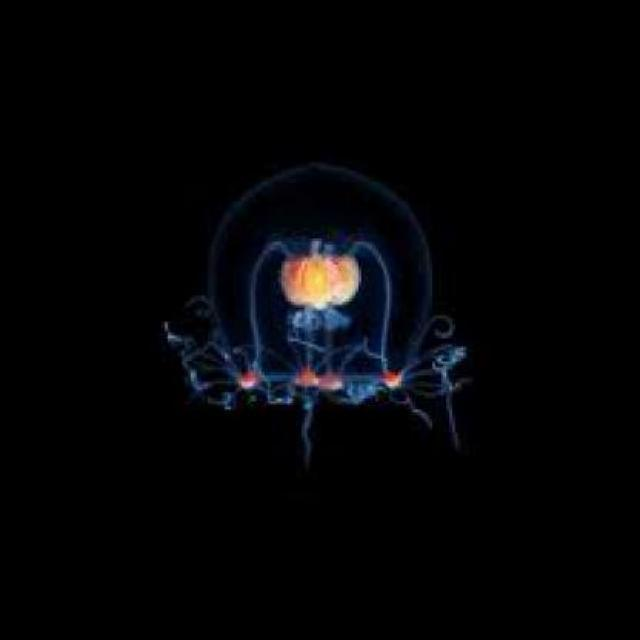Jellyfish: (156, 156, 475, 472)
